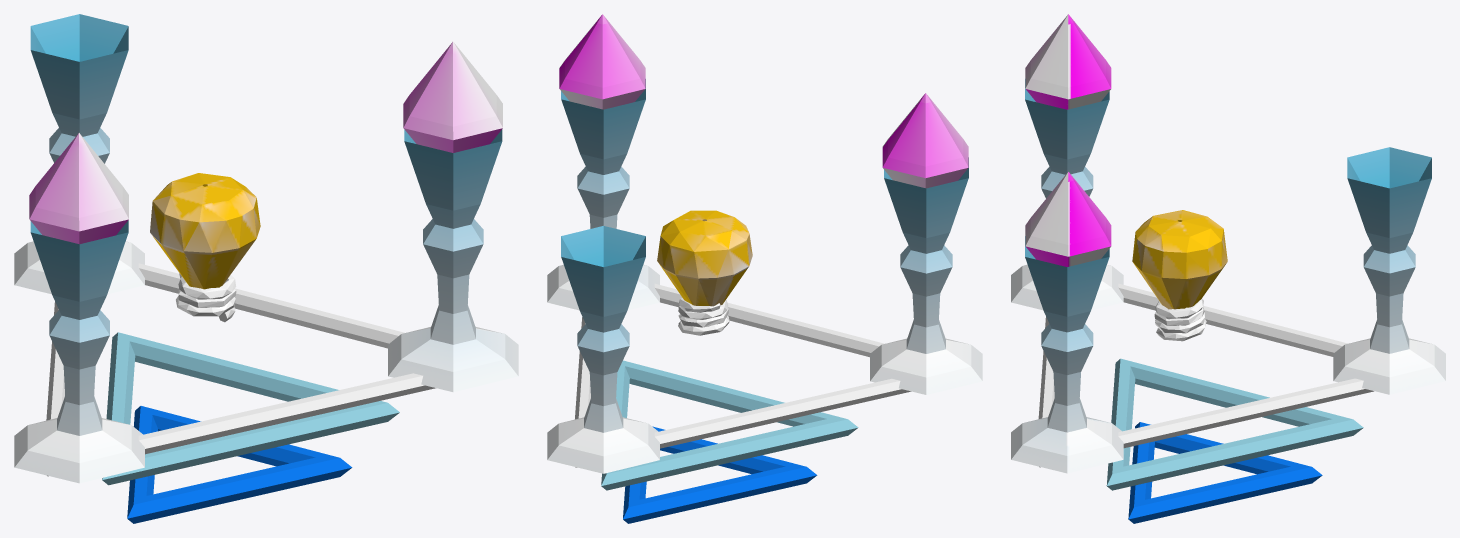
File: monument.fbx
3 renders of one model, left to right at view 1: azimuth 30°, elevation 25°; view 2: azimuth 150°, elevation 25°; view 3: azimuth 270°, elevation 25°, orthographic. The views are drawn at different scales.
Parts seen in each view (by area): view 1: monumelt_1; view 2: monumelt_1; view 3: monumelt_1.
Boxes of the visible parts, left/top/right/bottom form: monumelt_1: left=14, top=14, right=518, bottom=523; monumelt_1: left=547, top=14, right=982, bottom=523; monumelt_1: left=1011, top=14, right=1445, bottom=523.
Bounding box in the file's own units: 1012 × 854 × 876.
